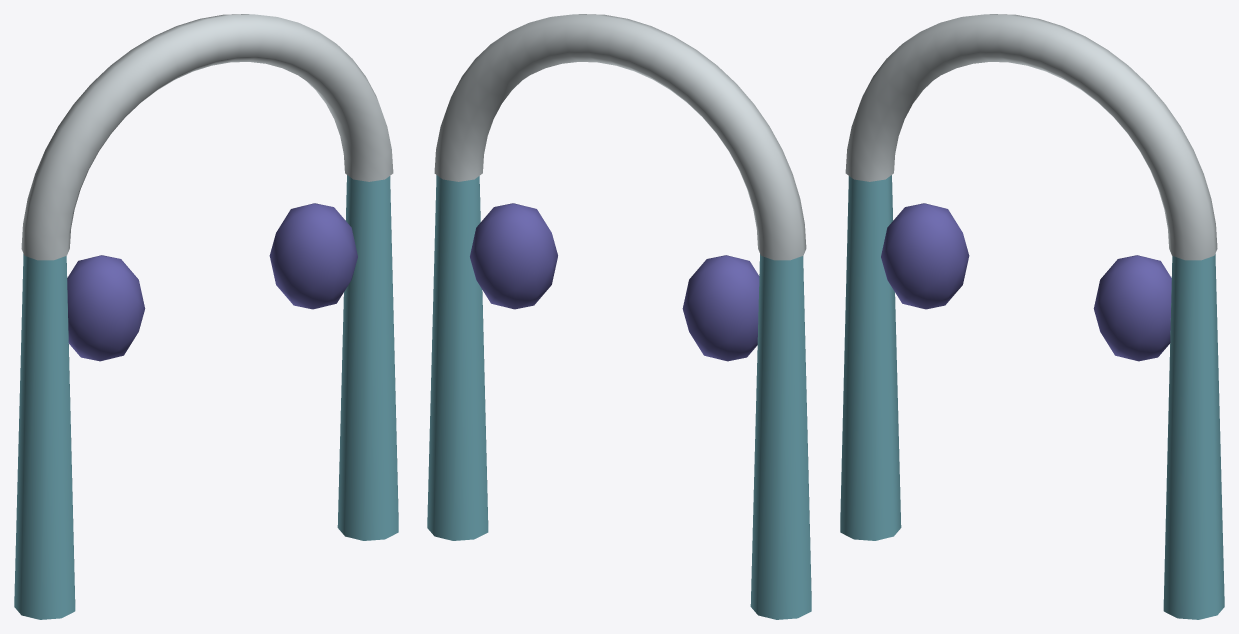
File: lantern_gate.glb
3 views of the same model, side by side, from view 1: azimuth 30°, elevation 25°; view 2: azimuth 150°, elevation 25°; view 3: azimuth 330°, elevation 25° (orthographic).
Visible parts, largest first — view 1: gate_arch, gate_post_-1, gate_post_1, gate_lantern_1, gate_lantern_-1; view 2: gate_arch, gate_post_-1, gate_post_1, gate_lantern_1, gate_lantern_-1; view 3: gate_arch, gate_post_1, gate_post_-1, gate_lantern_-1, gate_lantern_1.
Boxes of the visible parts, box(x1,y1,x2,y2) form: gate_arch: box(21, 14, 393, 260); gate_post_-1: box(14, 254, 75, 619); gate_post_1: box(337, 175, 398, 540); gate_lantern_1: box(269, 203, 357, 309); gate_lantern_-1: box(67, 255, 145, 361); gate_arch: box(434, 14, 806, 260); gate_post_-1: box(750, 254, 811, 619); gate_post_1: box(427, 175, 488, 540); gate_lantern_1: box(470, 203, 557, 309); gate_lantern_-1: box(682, 255, 759, 361); gate_arch: box(845, 14, 1217, 260); gate_post_1: box(1163, 254, 1224, 619); gate_post_-1: box(840, 175, 901, 540); gate_lantern_-1: box(881, 203, 969, 309); gate_lantern_1: box(1093, 255, 1171, 361).
Size of what is drawn, in the model's own units: 4.43 by 6.15 by 0.9.
